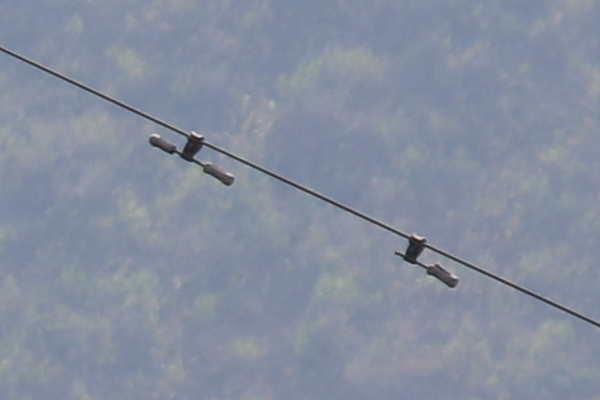damper: (145, 126, 237, 189)
damper_defect: (390, 229, 460, 291)
